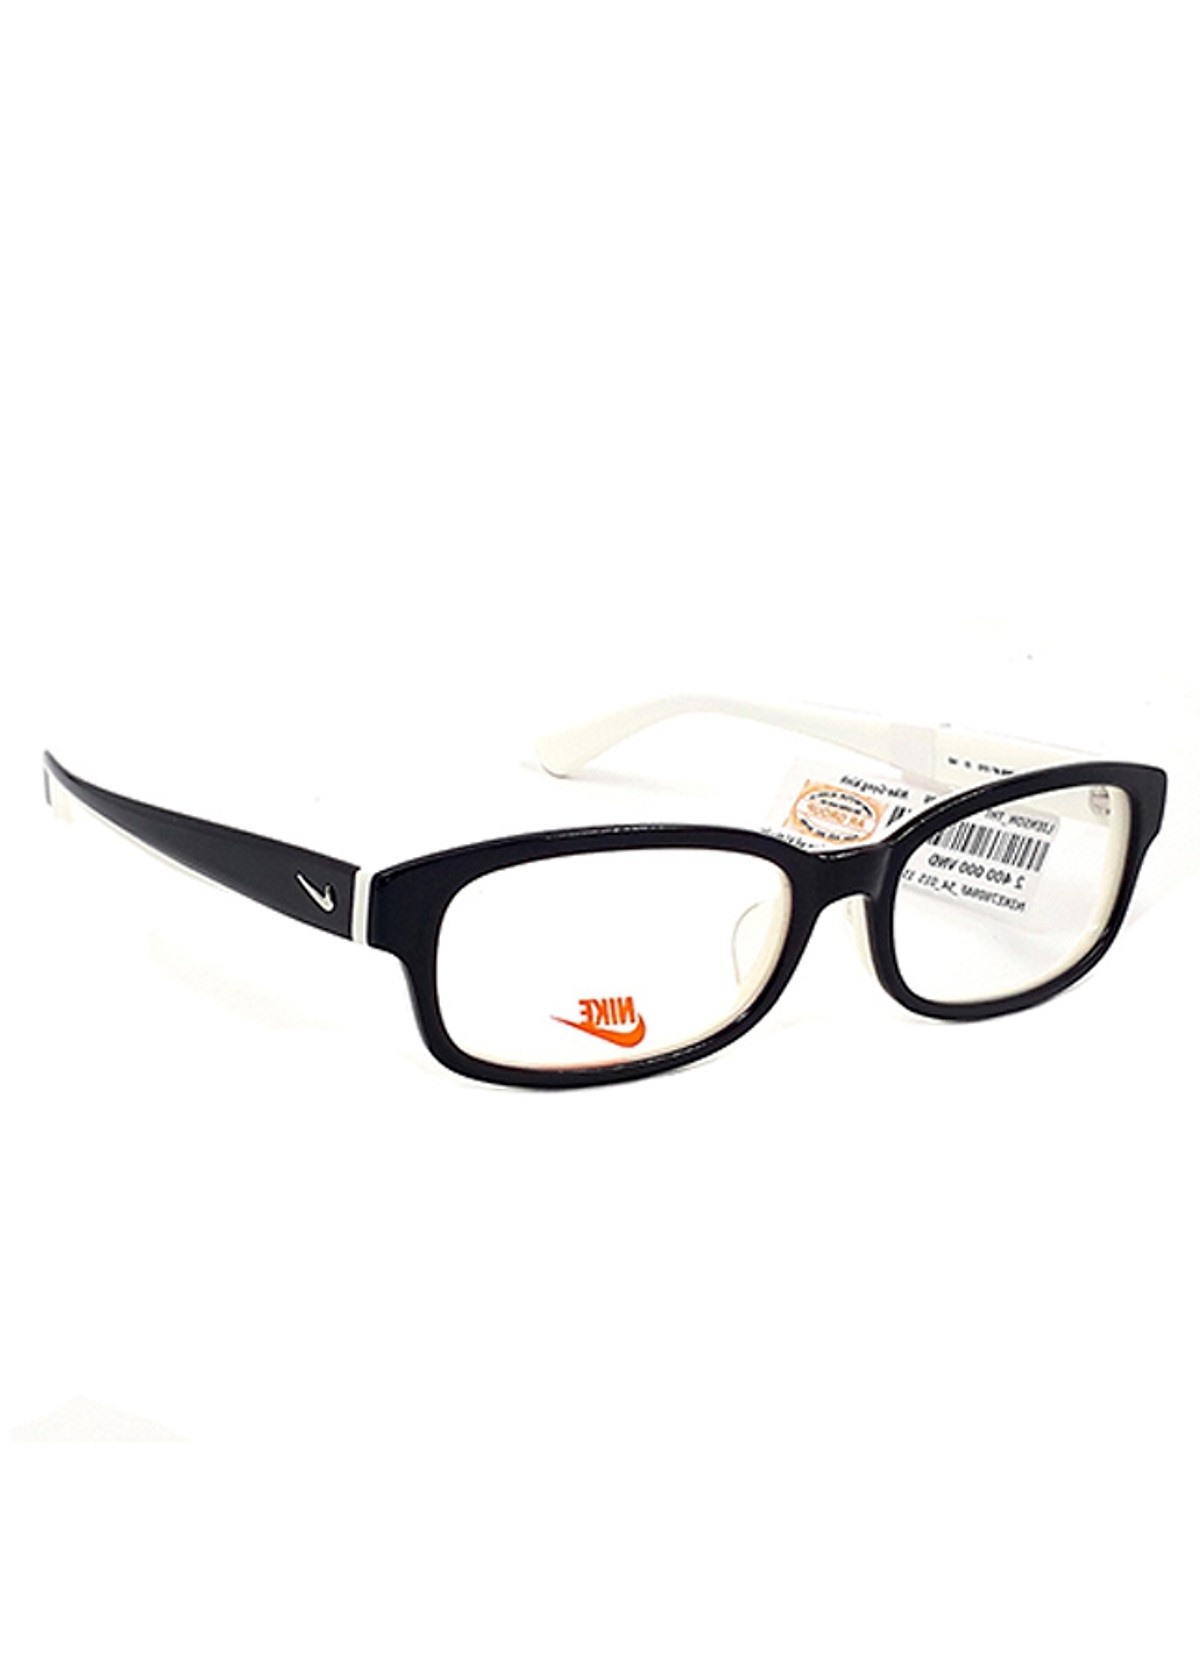Nike: (458, 911, 765, 1120)
